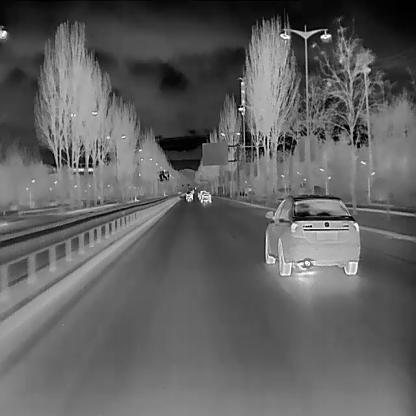car: (263, 189, 361, 275), (200, 190, 211, 202), (198, 188, 206, 200), (185, 191, 193, 200), (193, 186, 196, 189)
